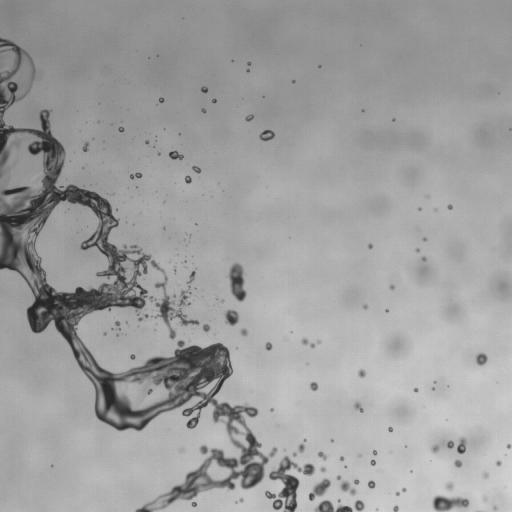droplet: (265, 455, 315, 511), (340, 480, 356, 495), (225, 309, 238, 325), (259, 130, 274, 141), (476, 353, 487, 365), (169, 151, 183, 159), (354, 402, 363, 412), (318, 451, 327, 460), (445, 482, 453, 491), (202, 324, 210, 332), (240, 328, 248, 336), (310, 382, 318, 390), (454, 459, 462, 467), (82, 142, 89, 151), (245, 114, 253, 121), (192, 166, 200, 173), (265, 342, 272, 350), (358, 369, 365, 377), (431, 445, 439, 452), (368, 480, 375, 488), (447, 440, 453, 448), (185, 176, 191, 183), (118, 126, 124, 132), (237, 497, 243, 503), (483, 472, 488, 479), (115, 321, 119, 329), (201, 87, 207, 92), (496, 460, 501, 466), (393, 505, 398, 511), (159, 97, 164, 102), (130, 354, 135, 359), (370, 460, 375, 465), (320, 467, 325, 472), (201, 108, 206, 112), (448, 204, 452, 209), (368, 243, 372, 248), (421, 257, 426, 261), (389, 285, 394, 289), (363, 304, 367, 309), (373, 450, 377, 455), (339, 456, 343, 461), (336, 475, 341, 479), (354, 479, 358, 484), (212, 98, 216, 102), (422, 237, 426, 241), (414, 388, 418, 392), (388, 427, 392, 431), (507, 444, 511, 448), (192, 502, 196, 506), (145, 140, 148, 144), (416, 248, 420, 251), (180, 449, 184, 452), (293, 452, 296, 456), (402, 488, 406, 491), (483, 496, 486, 500), (270, 408, 273, 411), (396, 492, 399, 495), (247, 62, 250, 64), (158, 152, 160, 155), (419, 207, 421, 210), (493, 507, 496, 509), (221, 300, 223, 302), (331, 439, 333, 441), (358, 455, 360, 457)
ligament: (0, 37, 277, 511), (227, 263, 246, 301), (432, 495, 469, 511), (314, 500, 364, 511), (309, 478, 330, 500), (301, 338, 321, 347), (457, 437, 466, 454), (187, 270, 195, 285), (298, 439, 306, 452), (130, 172, 142, 179), (138, 314, 148, 321), (0, 62, 2, 67), (478, 510, 482, 511)
